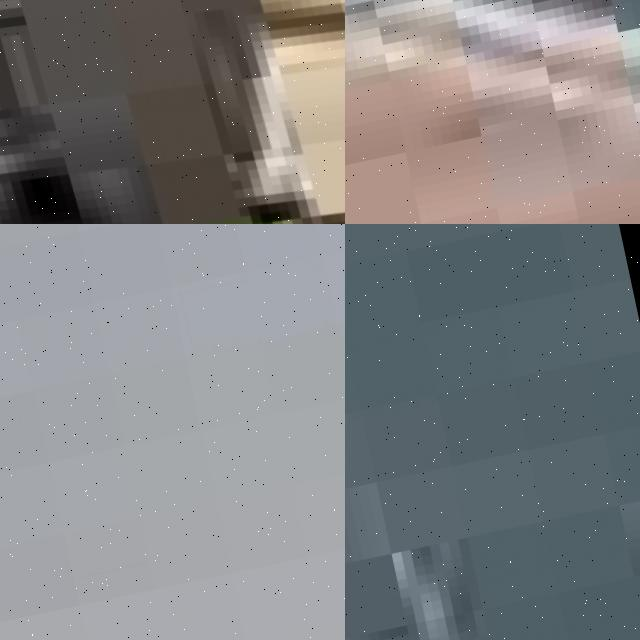drone: (0, 0, 345, 224)
